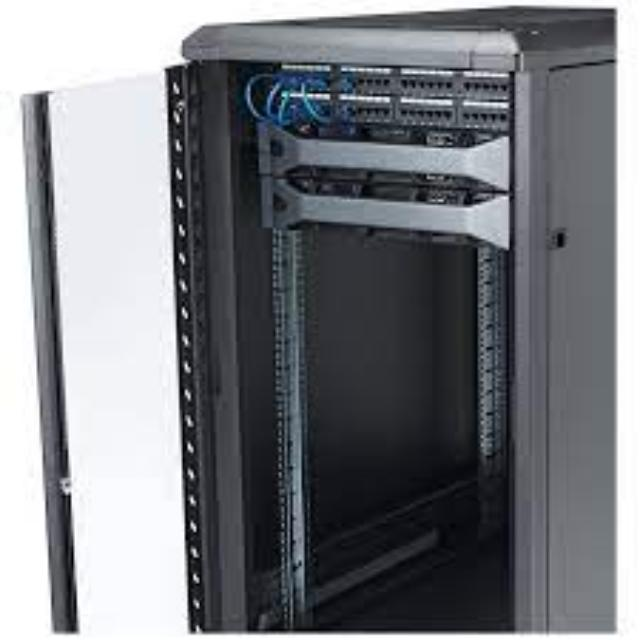Server: (14, 2, 626, 640)
